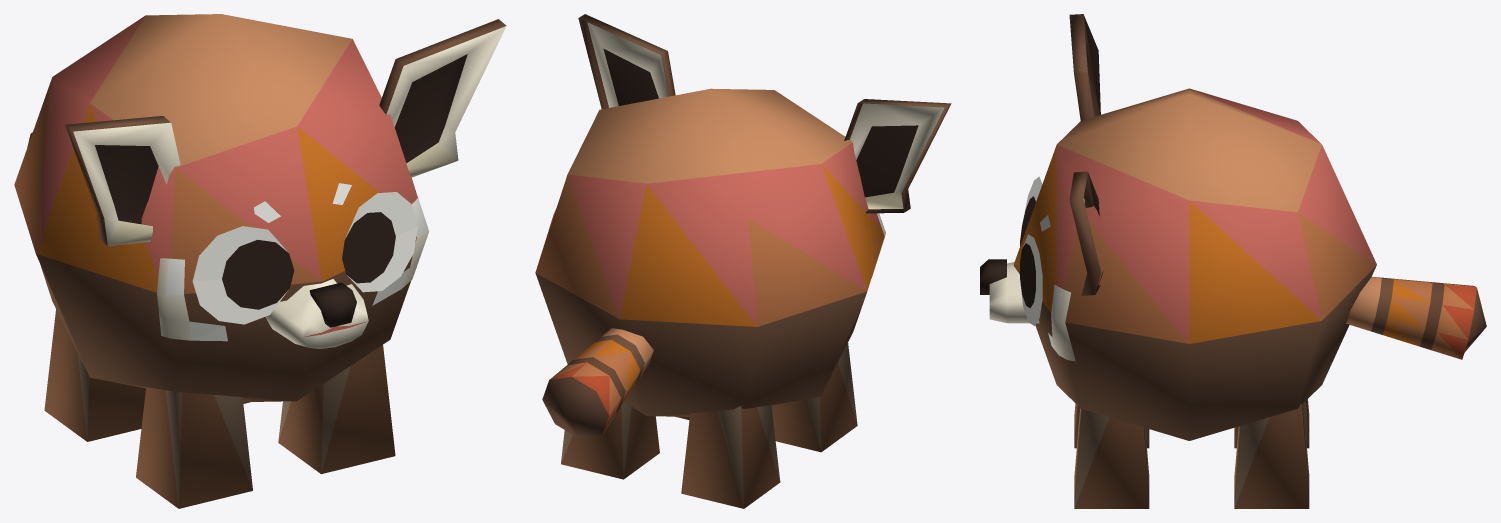
Rendered from itch_gobkit_animals_red.glb.
3 views of the same model, side by side, from view 1: azimuth 30°, elevation 25°; view 2: azimuth 150°, elevation 25°; view 3: azimuth 270°, elevation 25° (orthographic). The views are drawn at different scales.
Parts seen in each view (by area): view 1: Red; view 2: Red; view 3: Red.
Boxes of the visible parts, x1=… form: Red: x1=14, y1=14, x2=506, y2=508; Red: x1=535, y1=14, x2=951, y2=508; Red: x1=980, y1=14, x2=1486, y2=508.
Size of the model in its own units: 0.8312 by 0.7702 by 0.9613.
